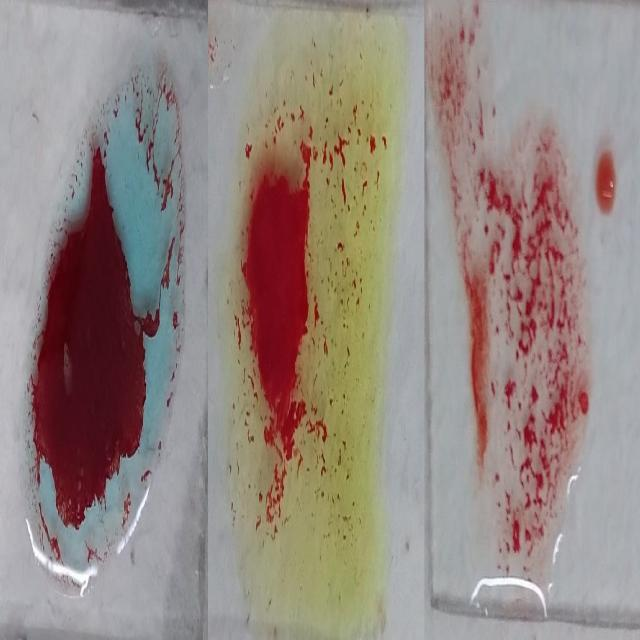A: (23, 41, 185, 598)
B: (223, 39, 380, 600)
D: (472, 107, 596, 588)
